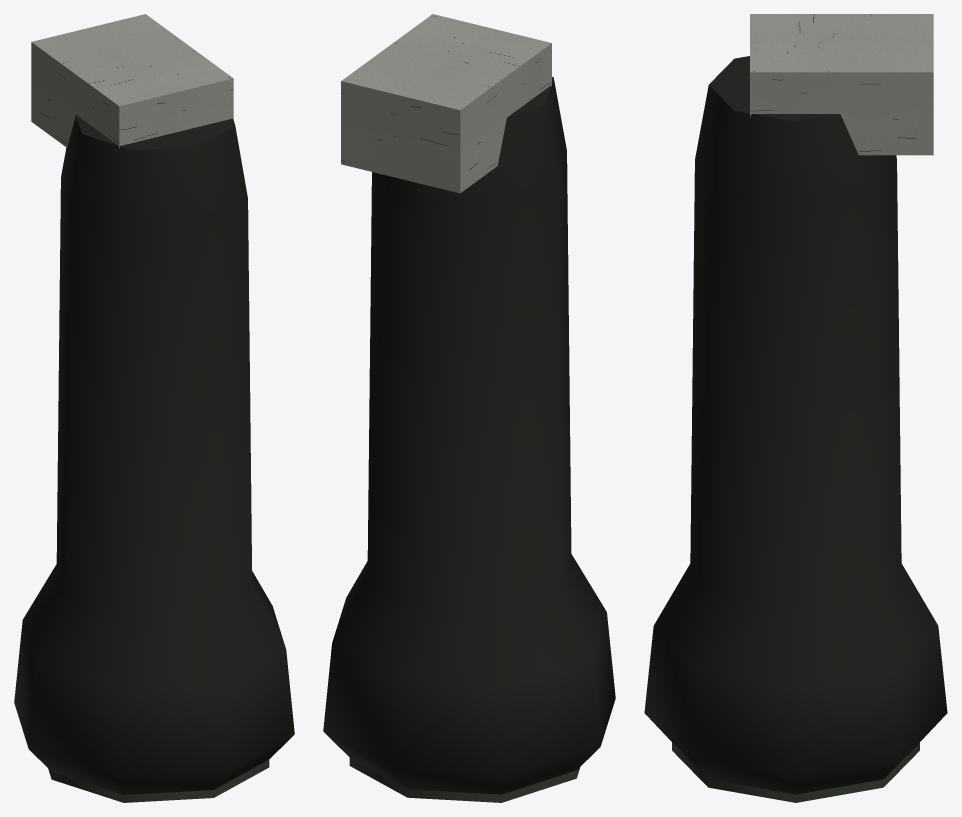
The model's file is SM_FieldKit_Handset_LOD1.glb.
3 views of the same model, side by side, from view 1: azimuth 30°, elevation 25°; view 2: azimuth 150°, elevation 25°; view 3: azimuth 270°, elevation 25° (orthographic). The views are drawn at different scales.
Parts seen in each view (by area): view 1: SM_FieldKit_Handset_LOD1; view 2: SM_FieldKit_Handset_LOD1; view 3: SM_FieldKit_Handset_LOD1.
Part boxes in pixels (left/top/right/bottom): SM_FieldKit_Handset_LOD1: left=14, top=14, right=294, bottom=802; SM_FieldKit_Handset_LOD1: left=323, top=14, right=615, bottom=802; SM_FieldKit_Handset_LOD1: left=644, top=14, right=947, bottom=802.
Size of the model in its own units: 0.066 by 0.172 by 0.066.
Materials: 3 (1 with a texture image).
